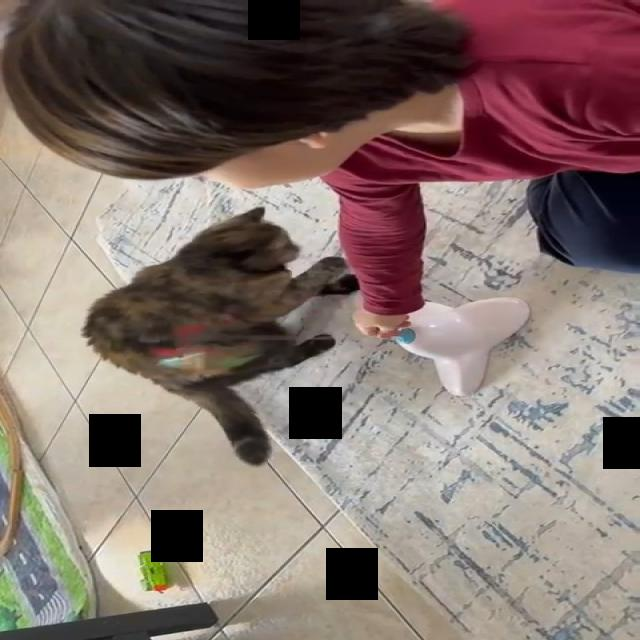authorized: (80, 206, 359, 467)
